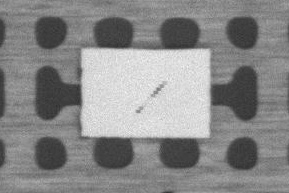DIE_INK: (150, 78, 167, 98), (135, 102, 145, 113)
